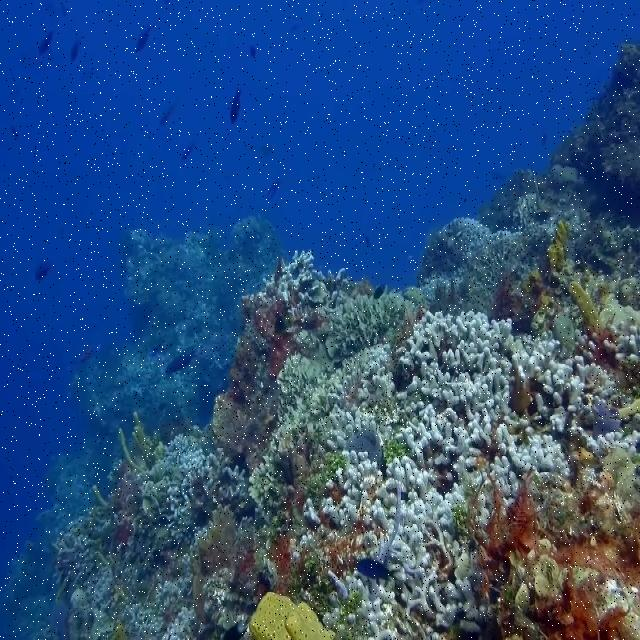fish: (357, 557, 401, 587), (511, 383, 537, 412), (230, 87, 242, 123)
reefs: (288, 308, 639, 638), (206, 249, 419, 568), (51, 411, 335, 639), (403, 176, 639, 358), (478, 436, 639, 639)
